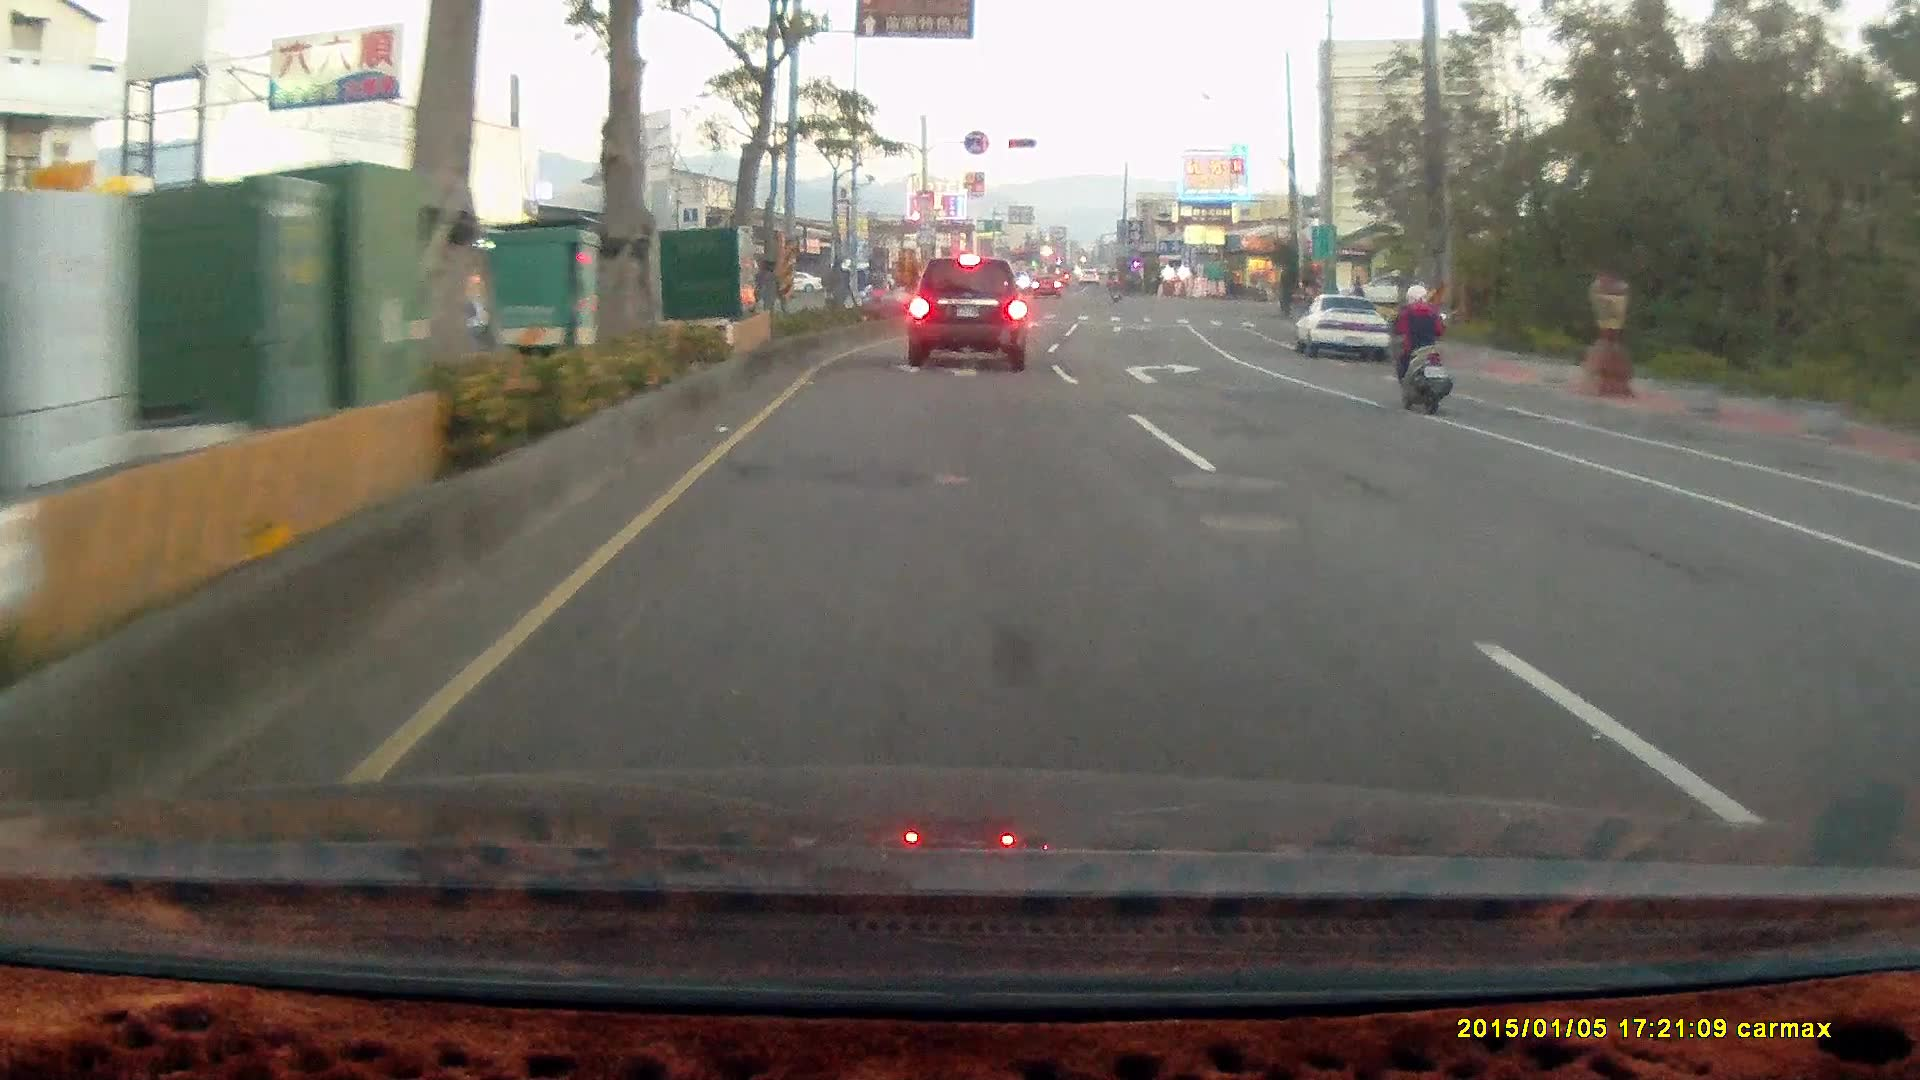rider: (1378, 280, 1454, 415), (1381, 281, 1455, 416)
vehicle: (905, 257, 1026, 373), (1896, 493, 1920, 836), (1290, 291, 1390, 364), (1297, 294, 1393, 367), (1883, 528, 1920, 690), (1335, 273, 1417, 309)
